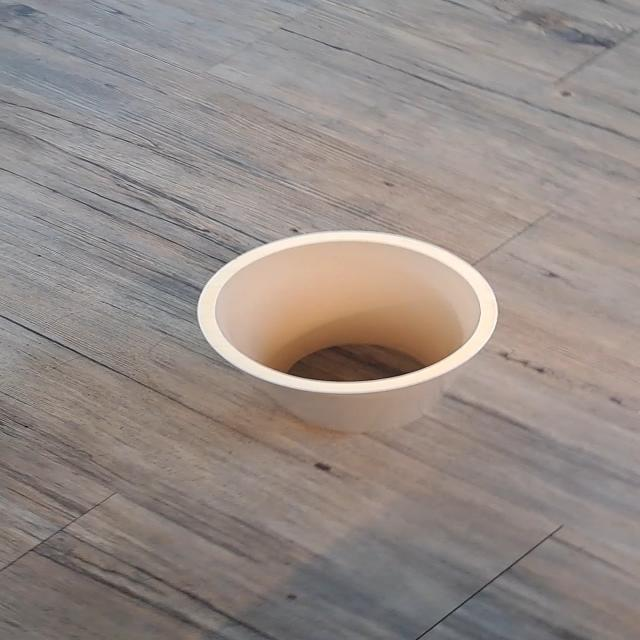CORAL: (163, 217, 534, 464)
